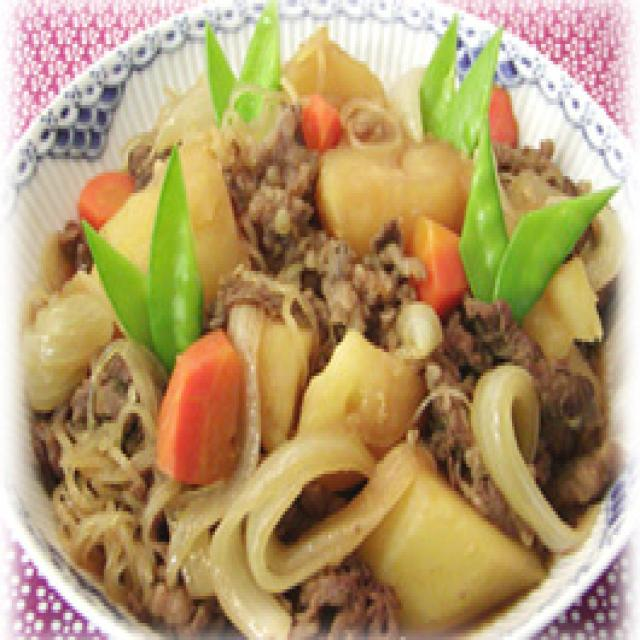牛肉菜式: (58, 55, 570, 600)
